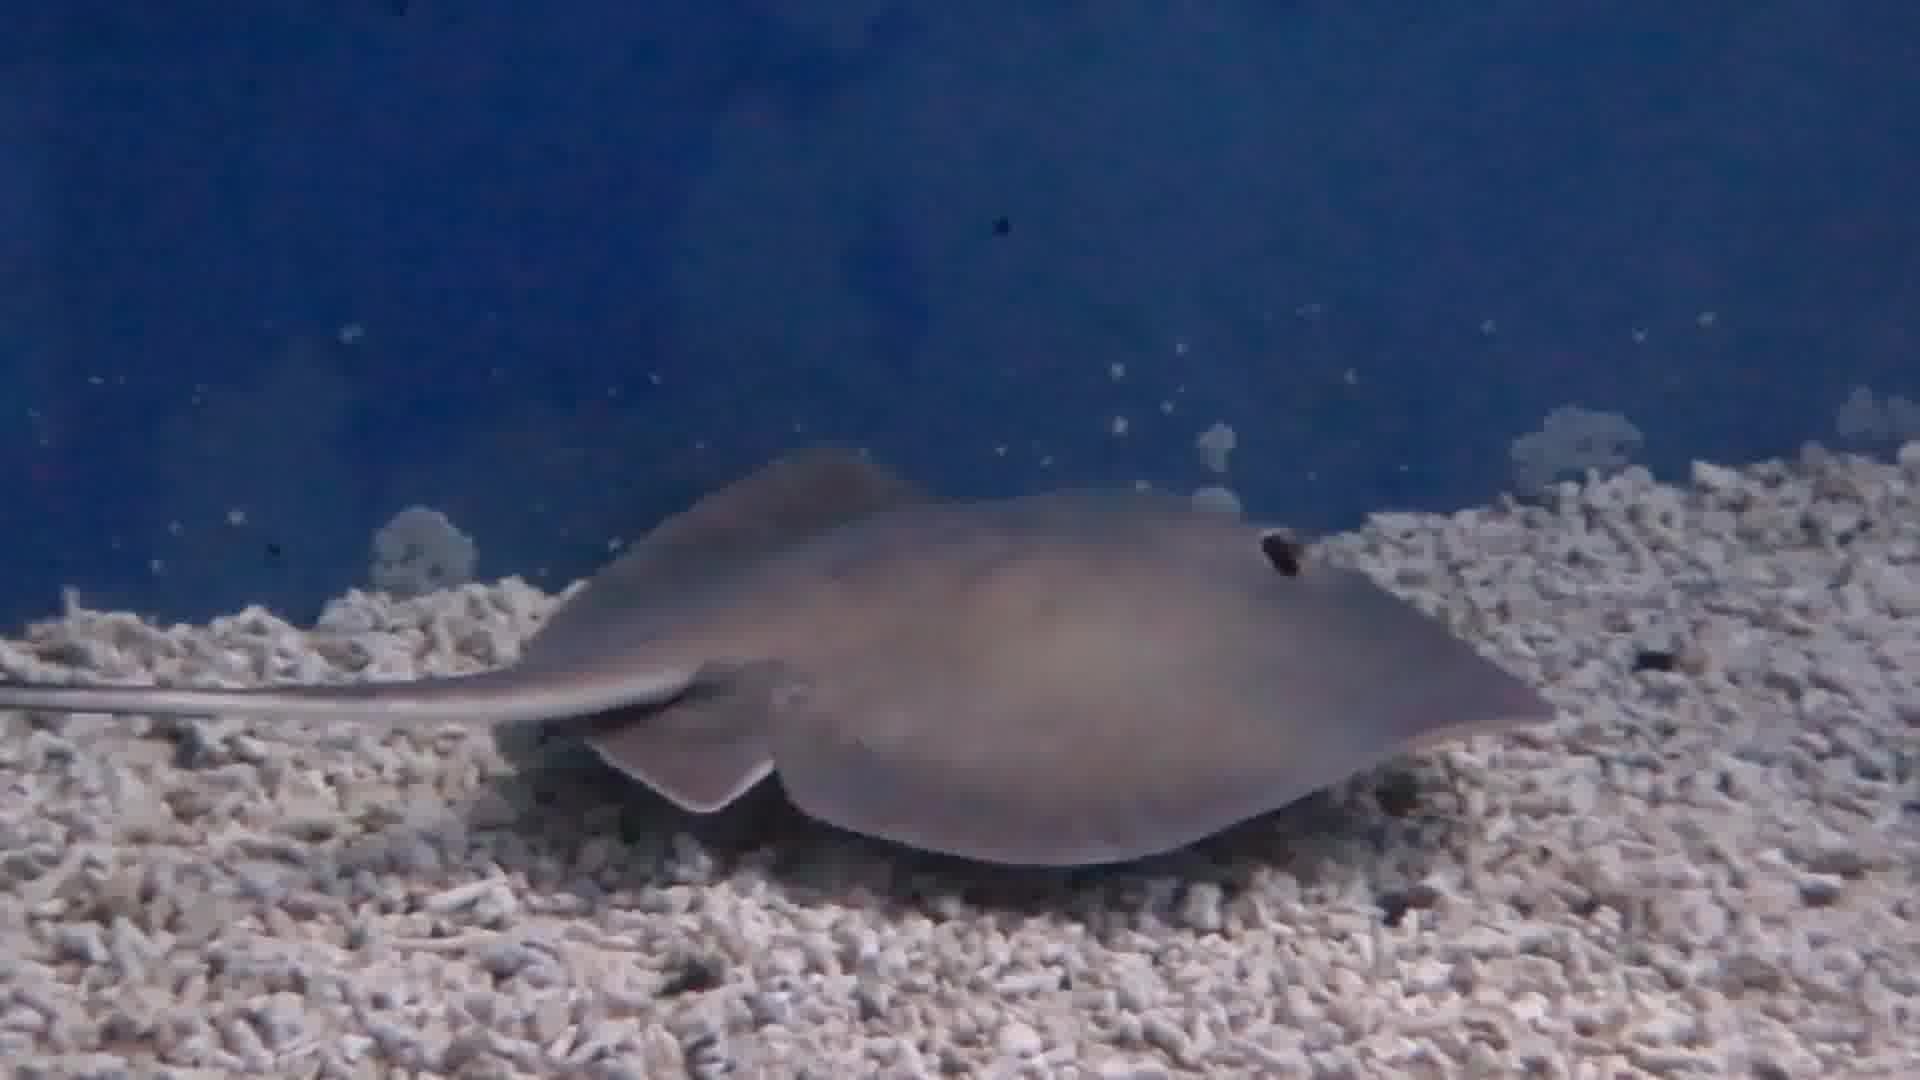Dasyatis bennetti: (429, 186, 1677, 1027)
